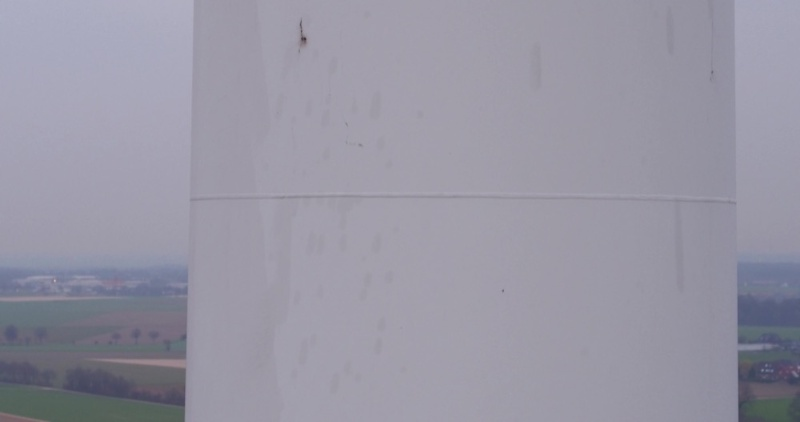weldseam: (189, 188, 741, 217)
